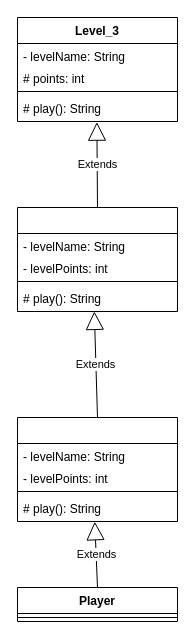
Image size: 195x639. Some labels were removed from this diagram. The box of each missing label's shape, as (x1, y1, x2, y2) in pixels:
Level_1: (16, 416, 178, 522)
Level_2: (16, 206, 178, 312)
